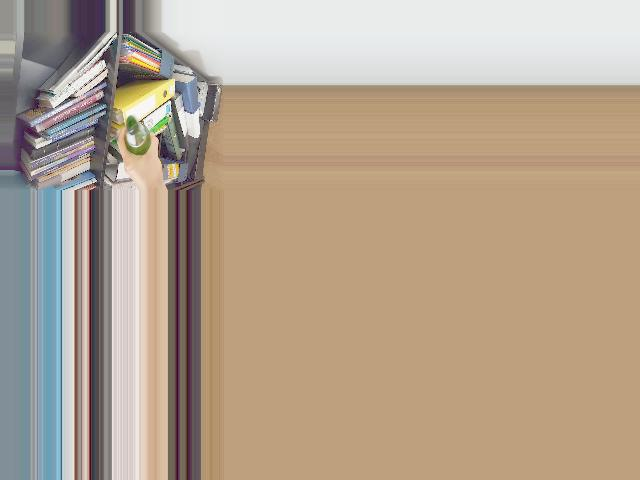beer: (125, 116, 151, 155)
